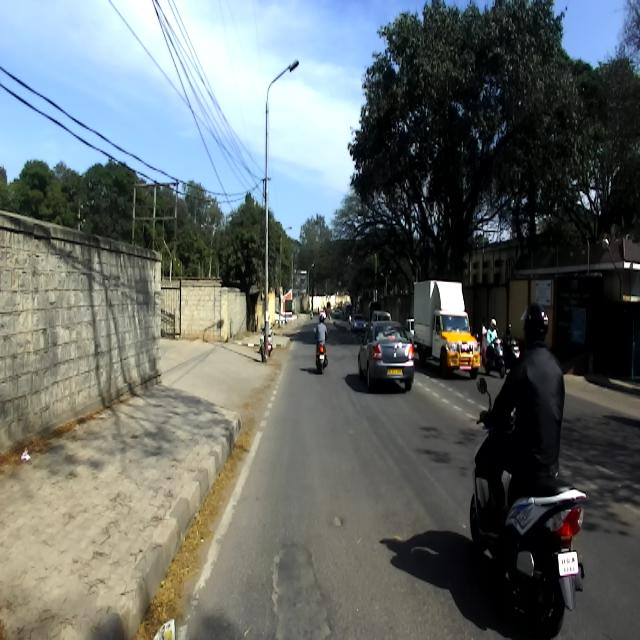car ahead at: (359, 322, 416, 394)
electric pole ahead at: (258, 51, 300, 373)
motorcycle ahead at: (467, 480, 588, 630)
